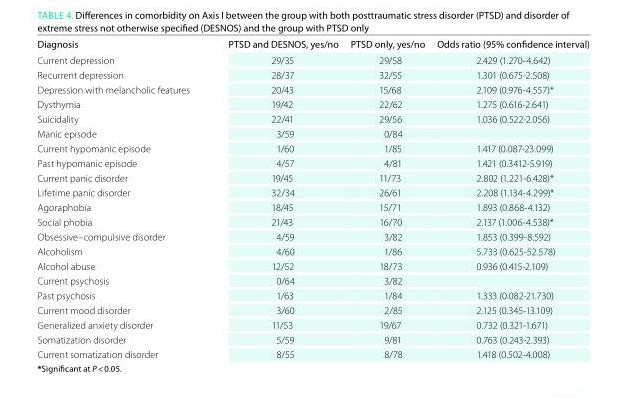table: (36, 37, 588, 359)
table column: (36, 37, 208, 359), (430, 37, 588, 359), (208, 37, 343, 359), (343, 37, 430, 359)
table column header: (36, 37, 588, 51)
table row: (36, 51, 588, 66), (36, 66, 588, 81), (36, 81, 588, 96), (36, 96, 588, 111), (36, 125, 588, 140), (36, 140, 588, 155), (36, 169, 588, 184), (36, 184, 588, 199), (36, 213, 588, 228), (36, 228, 588, 243), (36, 243, 588, 258), (36, 272, 588, 287), (36, 287, 588, 302), (36, 316, 588, 331), (36, 331, 588, 346), (36, 37, 588, 51), (36, 111, 588, 125), (36, 155, 588, 169), (36, 199, 588, 213), (36, 258, 588, 272), (36, 302, 588, 316), (36, 346, 588, 359)
